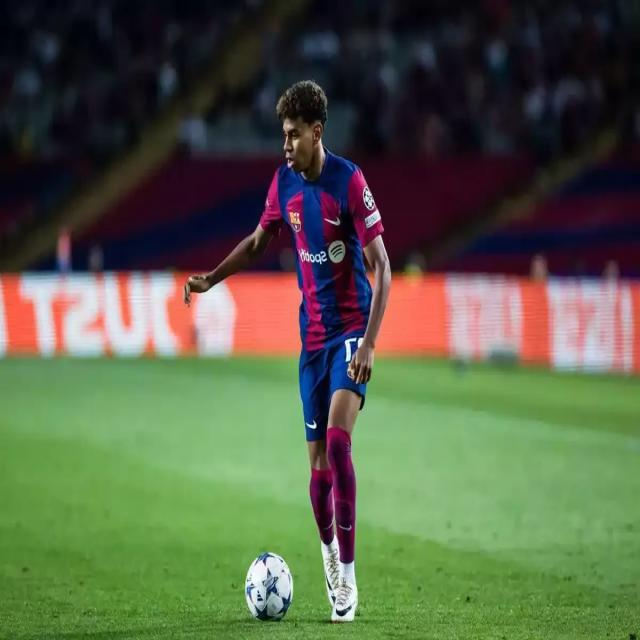nike: (322, 210, 344, 230), (338, 516, 355, 536), (303, 415, 319, 434)
